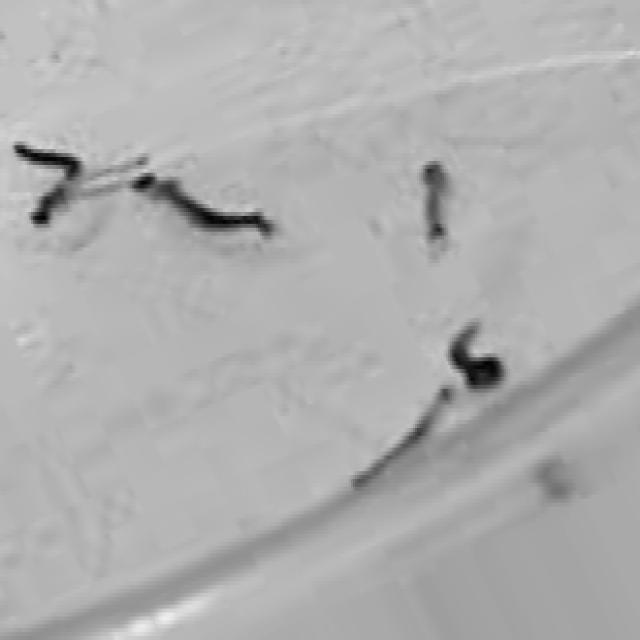larvas: (353, 385, 448, 489), (137, 170, 268, 239), (15, 143, 70, 220), (71, 146, 147, 198), (453, 324, 499, 389), (428, 157, 444, 232)
